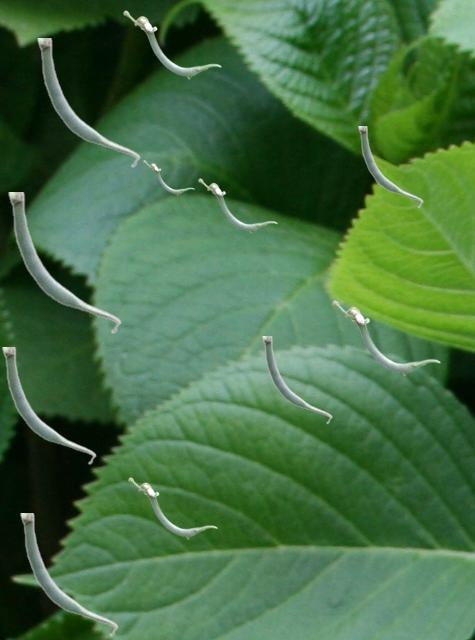french_bean: (8, 192, 120, 333), (37, 38, 139, 167), (20, 513, 117, 636), (2, 347, 95, 464), (332, 300, 439, 375), (123, 10, 220, 78), (262, 336, 331, 423), (128, 477, 216, 538), (358, 126, 422, 207), (198, 178, 276, 232), (143, 160, 193, 194)
